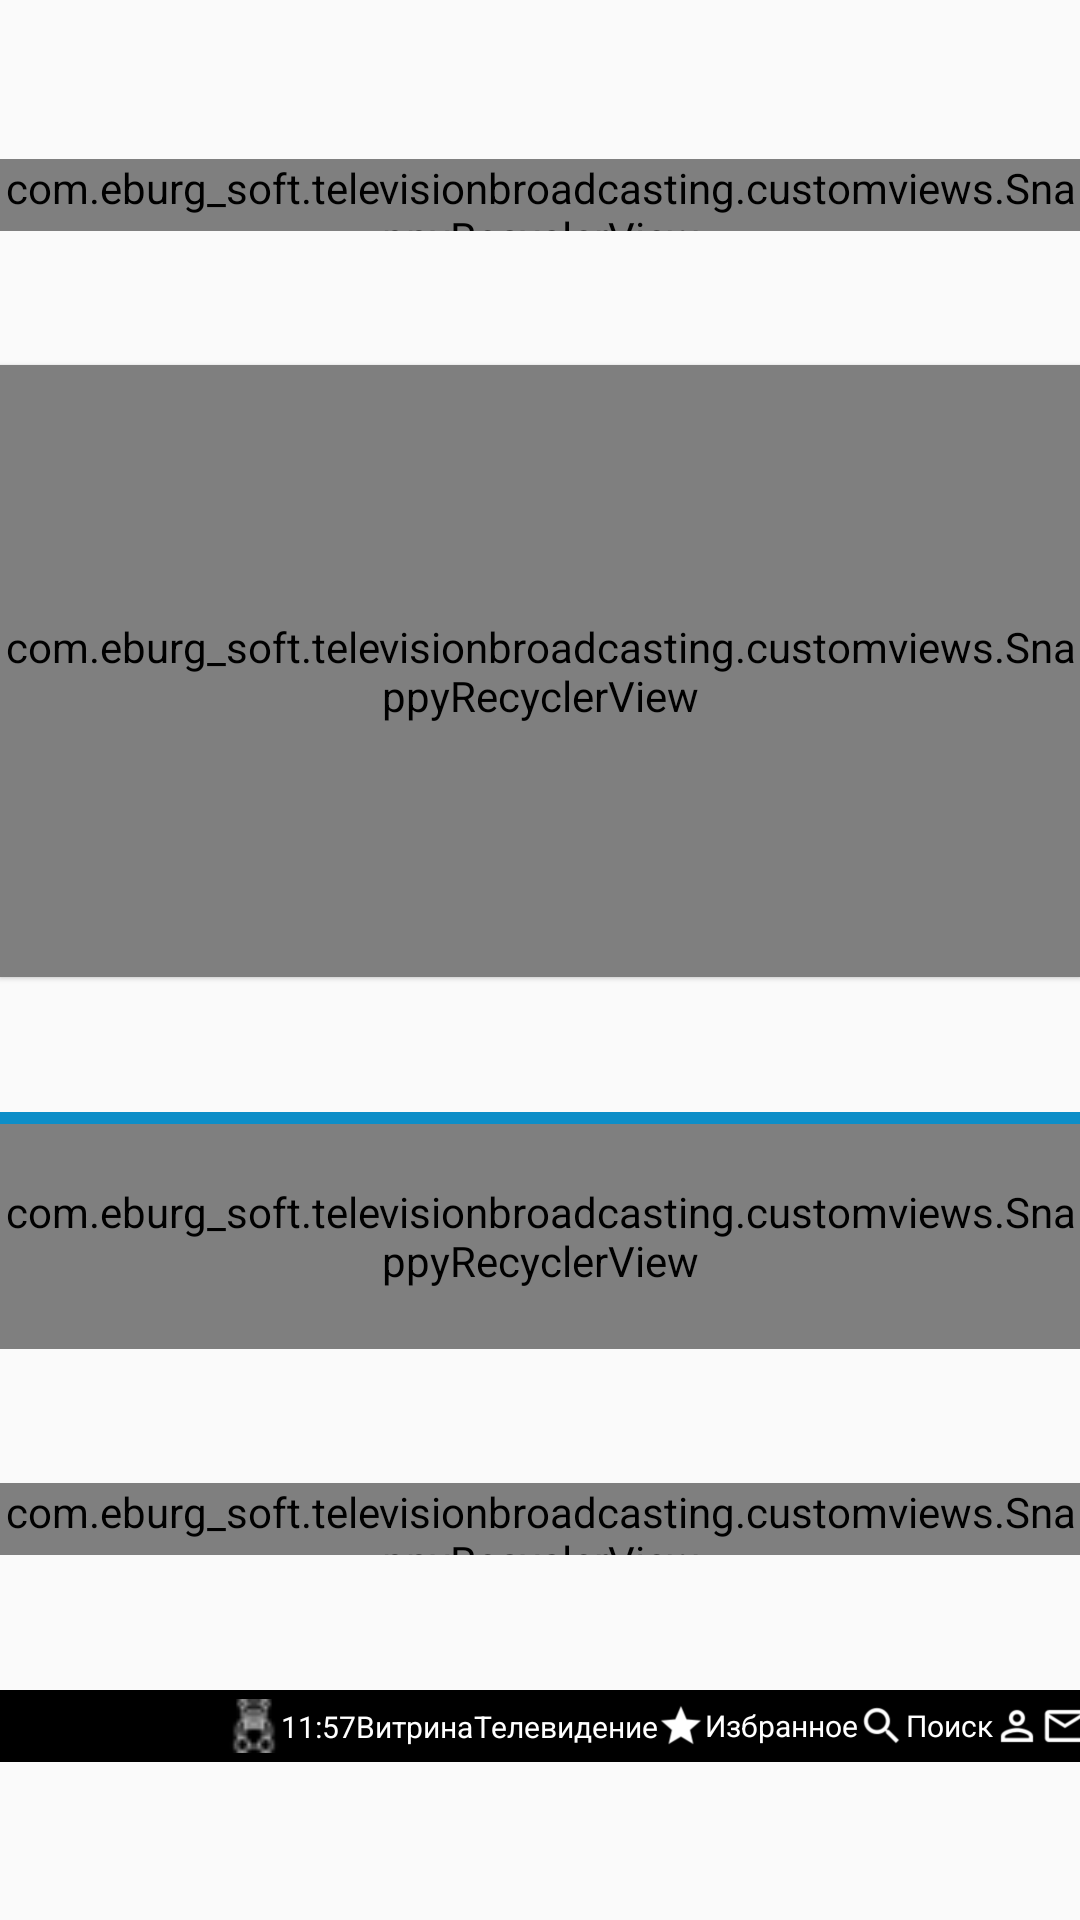

Named icons in this screenshot (1080px×1920px) and their centers, point (x, y):
perm identity: point (1017, 1726)
teddy bear: point (254, 1726)
